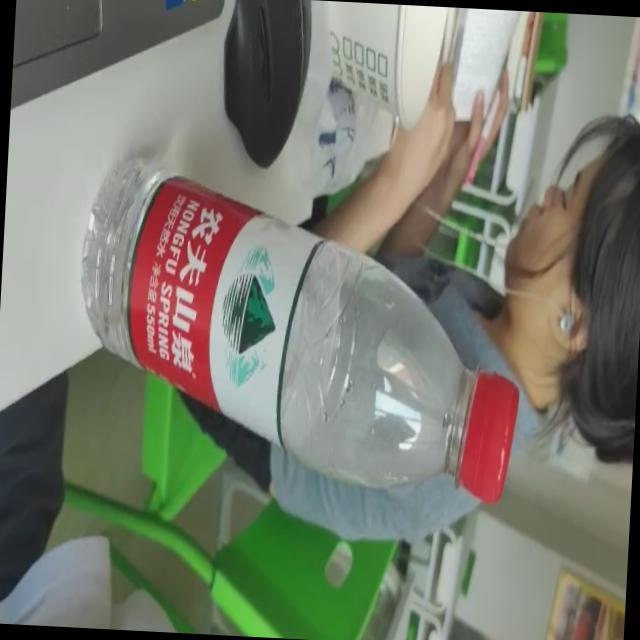good: (70, 147, 531, 508)
